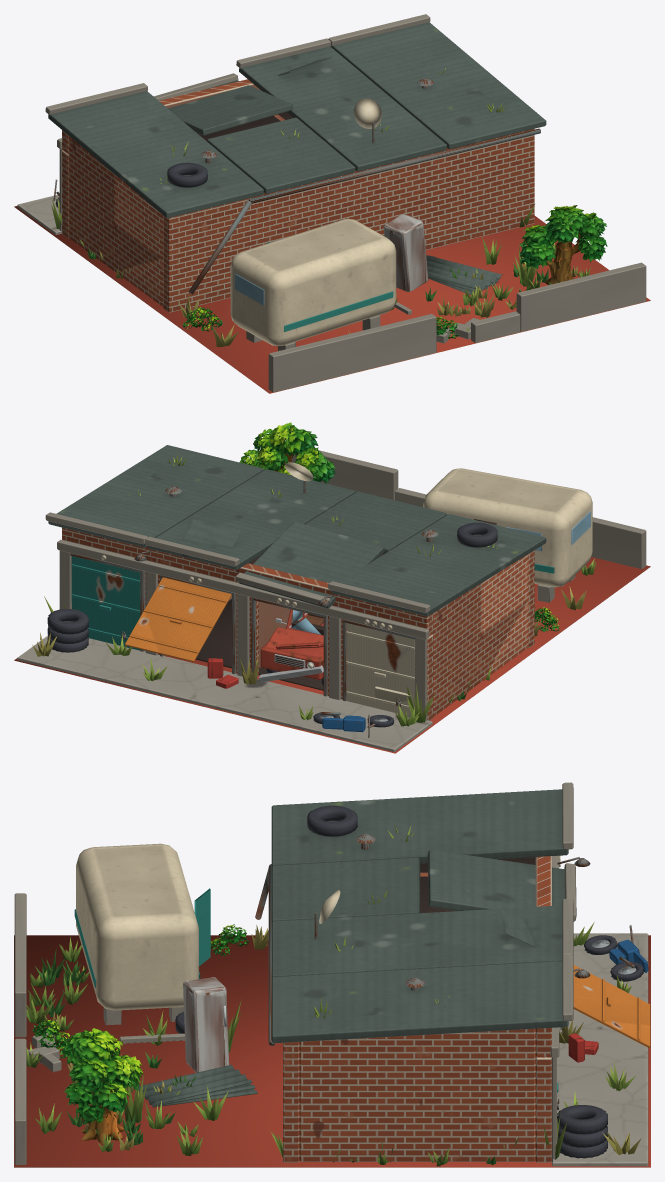
File: Lot_Garagem.fbx
The picture shows the model from 3 angles, top to bottom: view 1: azimuth 30°, elevation 25°; view 2: azimuth 150°, elevation 25°; view 3: azimuth 270°, elevation 25°; orthographic projection. The views are drawn at different scales.
Parts seen in each view (by area): view 1: GAR_row, GAR_yard, GAR_caravan, GAR_pad, GAR_junk; view 2: GAR_row, GAR_yard, GAR_caravan, GAR_pad, GAR_junk; view 3: GAR_row, GAR_pad, GAR_yard, GAR_caravan, GAR_junk.
Boxes of the visible parts, x1=… form: GAR_row: x1=45, y1=14, x2=546, y2=312; GAR_yard: x1=17, y1=195, x2=646, y2=392; GAR_caravan: x1=230, y1=219, x2=411, y2=351; GAR_pad: x1=14, y1=206, x2=650, y2=393; GAR_junk: x1=53, y1=179, x2=502, y2=294; GAR_row: x1=45, y1=445, x2=546, y2=720; GAR_yard: x1=17, y1=422, x2=646, y2=751; GAR_caravan: x1=423, y1=468, x2=592, y2=602; GAR_pad: x1=14, y1=557, x2=650, y2=753; GAR_junk: x1=47, y1=609, x2=394, y2=737; GAR_row: x1=255, y1=782, x2=650, y2=1162; GAR_pad: x1=14, y1=935, x2=650, y2=1167; GAR_yard: x1=14, y1=893, x2=648, y2=1166; GAR_caravan: x1=74, y1=843, x2=210, y2=1043; GAR_junk: x1=132, y1=925, x2=648, y2=1158.
Bounding box in the file's own units: 10.09 × 3.62 × 11.6.
1 material, 1 textured.
